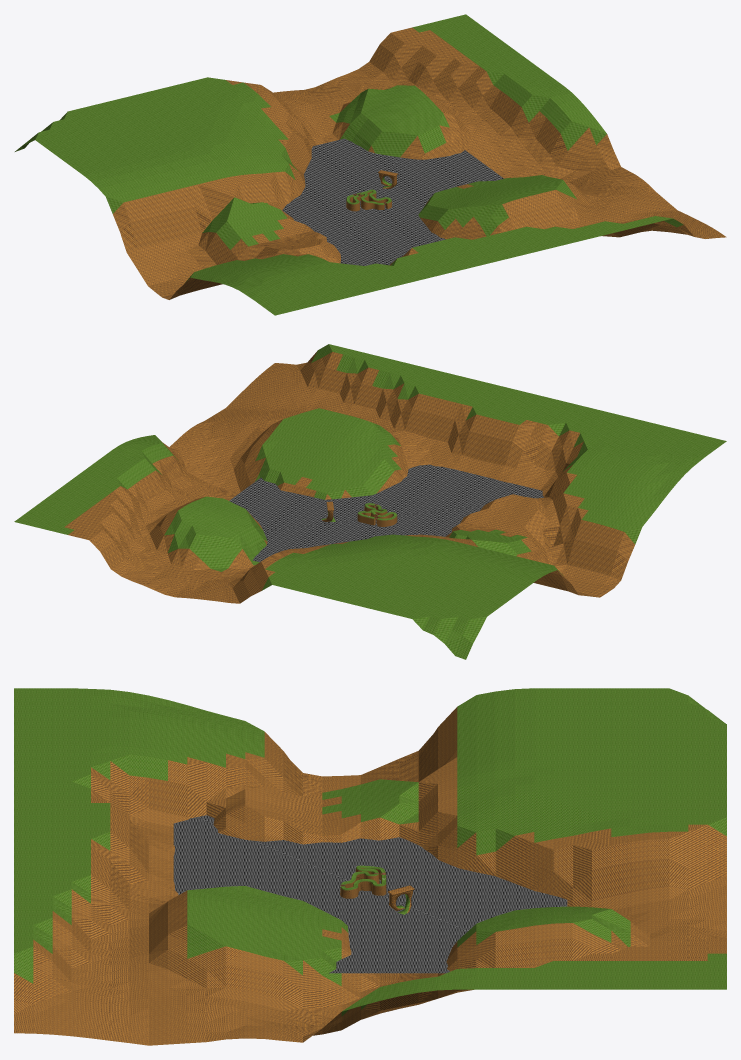
3 views of the same model, one above another, from view 1: azimuth 30°, elevation 25°; view 2: azimuth 150°, elevation 25°; view 3: azimuth 270°, elevation 25° (orthographic). The views are drawn at different scales.
Visible parts, largest first — view 1: Plane.064, Plane.063, Water.006; view 2: Plane.064, Plane.063, Water.006; view 3: Plane.063, Plane.064, Water.006, Wall Edge.
Part boxes in pixels (x1=…): Plane.064: x1=15, y1=14, x2=683, y2=315; Plane.063: x1=113, y1=27, x2=726, y2=299; Water.006: x1=282, y1=138, x2=503, y2=265; Plane.064: x1=14, y1=344, x2=726, y2=659; Plane.063: x1=64, y1=350, x2=634, y2=603; Water.006: x1=229, y1=464, x2=543, y2=562; Plane.063: x1=14, y1=707, x2=726, y2=1045; Plane.064: x1=14, y1=688, x2=726, y2=1016; Water.006: x1=173, y1=815, x2=567, y2=973; Wall Edge: x1=340, y1=868, x2=386, y2=898.
Bounding box in the file's own units: 791718 × 117530 × 791718.
Materials: 10 (10 with a texture image).
